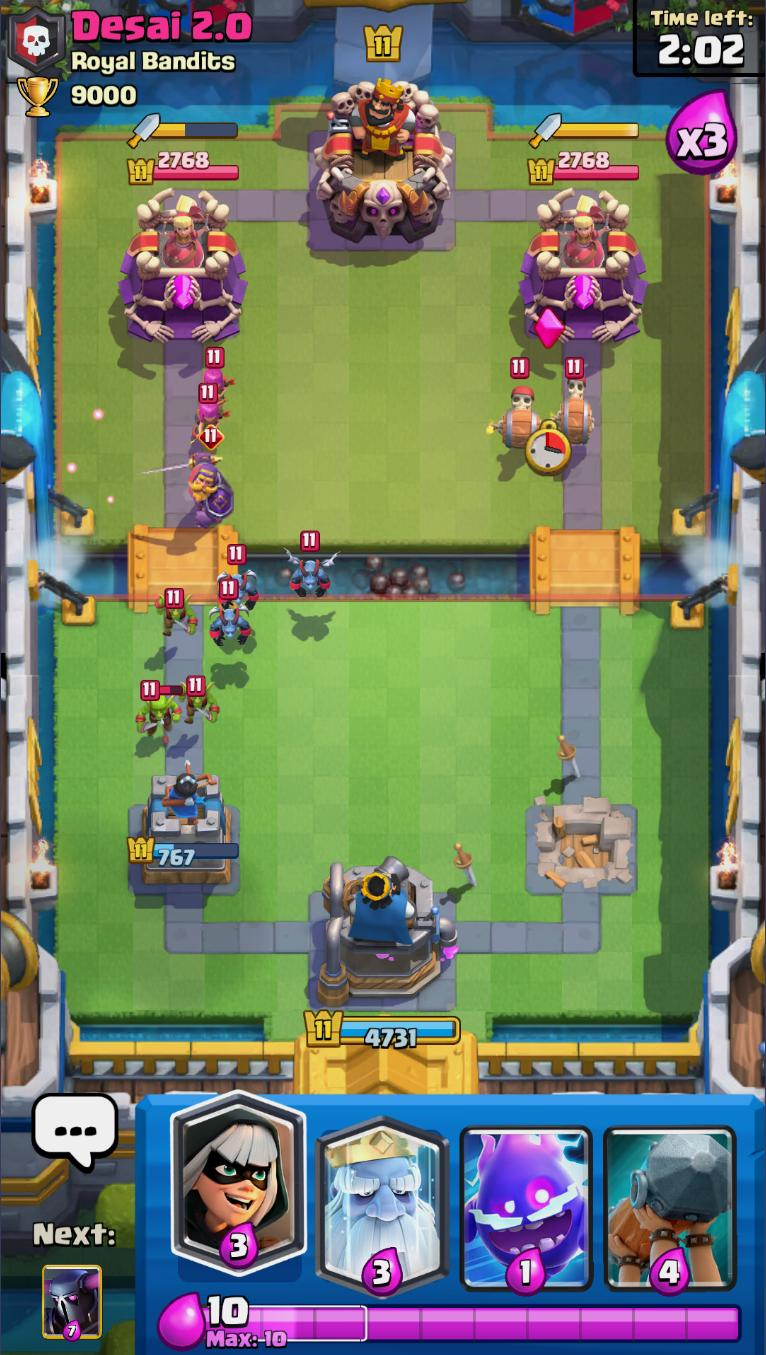Archer: (183, 384, 229, 449), (197, 345, 235, 411)
BanditDeck: (170, 1096, 310, 1294)
BattleRamDeck: (599, 1095, 742, 1294)
DaggerDuchess: (160, 193, 211, 272), (561, 195, 612, 270)
Daggers: (127, 112, 239, 150), (529, 113, 640, 148)
ElectroSpiritDeck: (453, 1096, 601, 1295)
Elixir: (204, 1294, 745, 1351)
EnemyTower: (116, 186, 250, 345), (518, 186, 650, 344)
EvoKnight: (140, 422, 237, 525)
Goblin: (134, 679, 182, 742), (175, 675, 225, 731), (152, 586, 197, 642)
KingTower: (312, 79, 457, 245)
Minion: (283, 530, 336, 602), (206, 579, 255, 648), (214, 544, 260, 612)
MyKingHP: (303, 1007, 462, 1052)
MyKingTower: (311, 855, 460, 1010)
MyPrincessTower: (125, 771, 243, 894)
MyPrincessTowerBrocken: (524, 801, 640, 896)
MyPrincessTowerHP: (124, 834, 241, 872)
PekkaNext: (41, 1261, 104, 1342)
RoyaleGhostDeck: (310, 1096, 454, 1295)
TowerPrincessHP: (527, 149, 642, 187), (126, 149, 240, 187)
WallBreakers: (489, 357, 542, 451), (554, 357, 596, 442)
